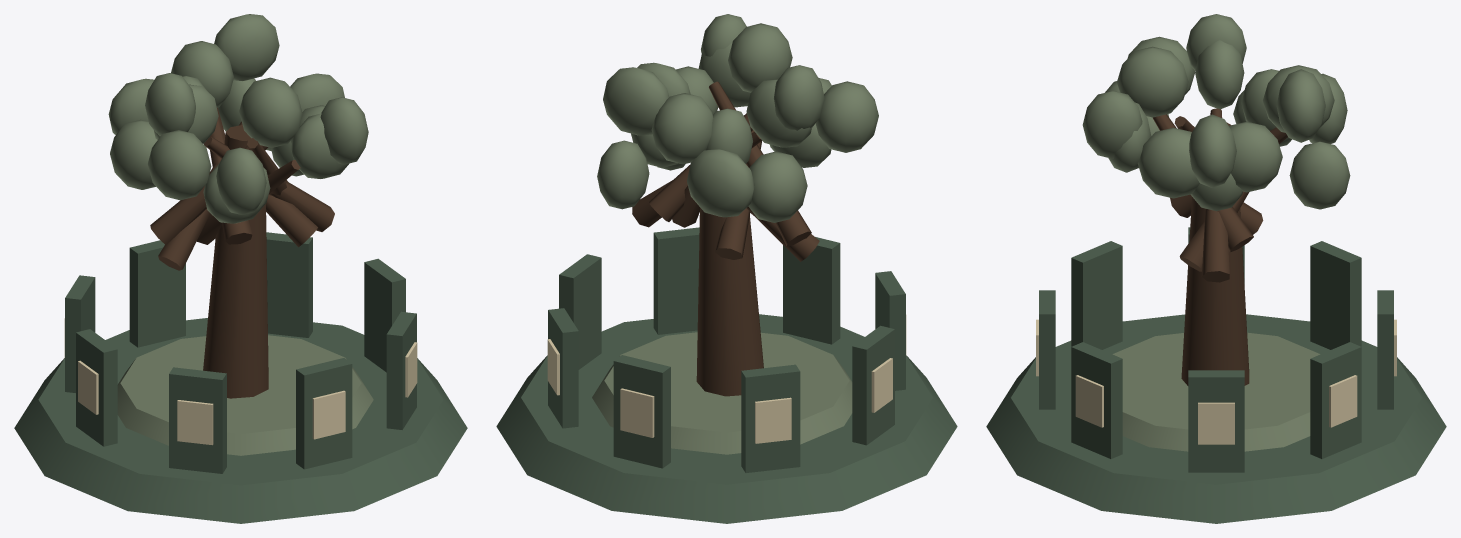
The model's file is archive-sanctum.glb.
3 renders of one model, left to right at view 1: azimuth 30°, elevation 25°; view 2: azimuth 150°, elevation 25°; view 3: azimuth 270°, elevation 25°, orthographic.
Visible parts, largest first — view 1: ArchiveDais, MossRing, MemoryTree, FieldMarker_07, FieldMarker_08, FieldMarker_03, FieldMarker_04, FieldMarker_05, ArchiveCanopy_8, ArchiveCanopy_5, FieldMarker_01, ArchiveCanopy_15 (+24 smaller); view 2: ArchiveDais, MossRing, MemoryTree, FieldMarker_03, FieldMarker_02, FieldMarker_06, FieldMarker_07, FieldMarker_05, ArchiveCanopy_12, FieldMarker_01, ArchiveCanopy_8, ArchiveCanopy_14 (+25 smaller); view 3: ArchiveDais, MossRing, MemoryTree, FieldMarker_04, FieldMarker_06, FieldMarker_01, FieldMarker_02, FieldMarker_08, ArchiveCanopy_5, ArchiveCanopy_2, ArchiveCanopy_16, ArchiveCanopy_4 (+20 smaller).
Boxes of the visible parts, bbox=[...] form: ArchiveDais: bbox=[14, 318, 467, 523]; MossRing: bbox=[117, 335, 373, 455]; MemoryTree: bbox=[203, 125, 268, 398]; FieldMarker_07: bbox=[129, 240, 185, 347]; FieldMarker_08: bbox=[266, 232, 312, 337]; FieldMarker_03: bbox=[296, 358, 352, 469]; FieldMarker_04: bbox=[169, 367, 226, 473]; FieldMarker_05: bbox=[76, 329, 117, 446]; ArchiveCanopy_8: bbox=[148, 130, 211, 200]; ArchiveCanopy_5: bbox=[239, 77, 302, 147]; FieldMarker_01: bbox=[364, 258, 405, 372]; ArchiveCanopy_15: bbox=[214, 14, 279, 80]; ArchiveDais: bbox=[496, 314, 957, 523]; MossRing: bbox=[592, 332, 852, 454]; MemoryTree: bbox=[696, 207, 763, 396]; FieldMarker_03: bbox=[783, 237, 840, 344]; FieldMarker_02: bbox=[653, 227, 699, 334]; FieldMarker_06: bbox=[741, 364, 800, 472]; FieldMarker_07: bbox=[613, 355, 670, 468]; FieldMarker_05: bbox=[852, 325, 894, 445]; ArchiveCanopy_12: bbox=[687, 149, 754, 217]; FieldMarker_01: bbox=[559, 254, 601, 369]; ArchiveCanopy_8: bbox=[815, 81, 878, 152]; ArchiveCanopy_14: bbox=[651, 93, 713, 164]; ArchiveDais: bbox=[986, 314, 1446, 523]; MossRing: bbox=[1112, 332, 1320, 451]; MemoryTree: bbox=[1181, 122, 1249, 385]; FieldMarker_04: bbox=[1071, 241, 1122, 349]; FieldMarker_06: bbox=[1310, 241, 1361, 349]; FieldMarker_01: bbox=[1188, 370, 1244, 472]; FieldMarker_02: bbox=[1071, 342, 1122, 458]; FieldMarker_08: bbox=[1310, 342, 1361, 458]; ArchiveCanopy_5: bbox=[1117, 46, 1188, 117]; ArchiveCanopy_2: bbox=[1137, 127, 1199, 198]; ArchiveCanopy_16: bbox=[1289, 141, 1350, 209]; ArchiveCanopy_4: bbox=[1082, 91, 1142, 158].
Bounding box in the file's own units: 9.4 × 8.5 × 9.4.
